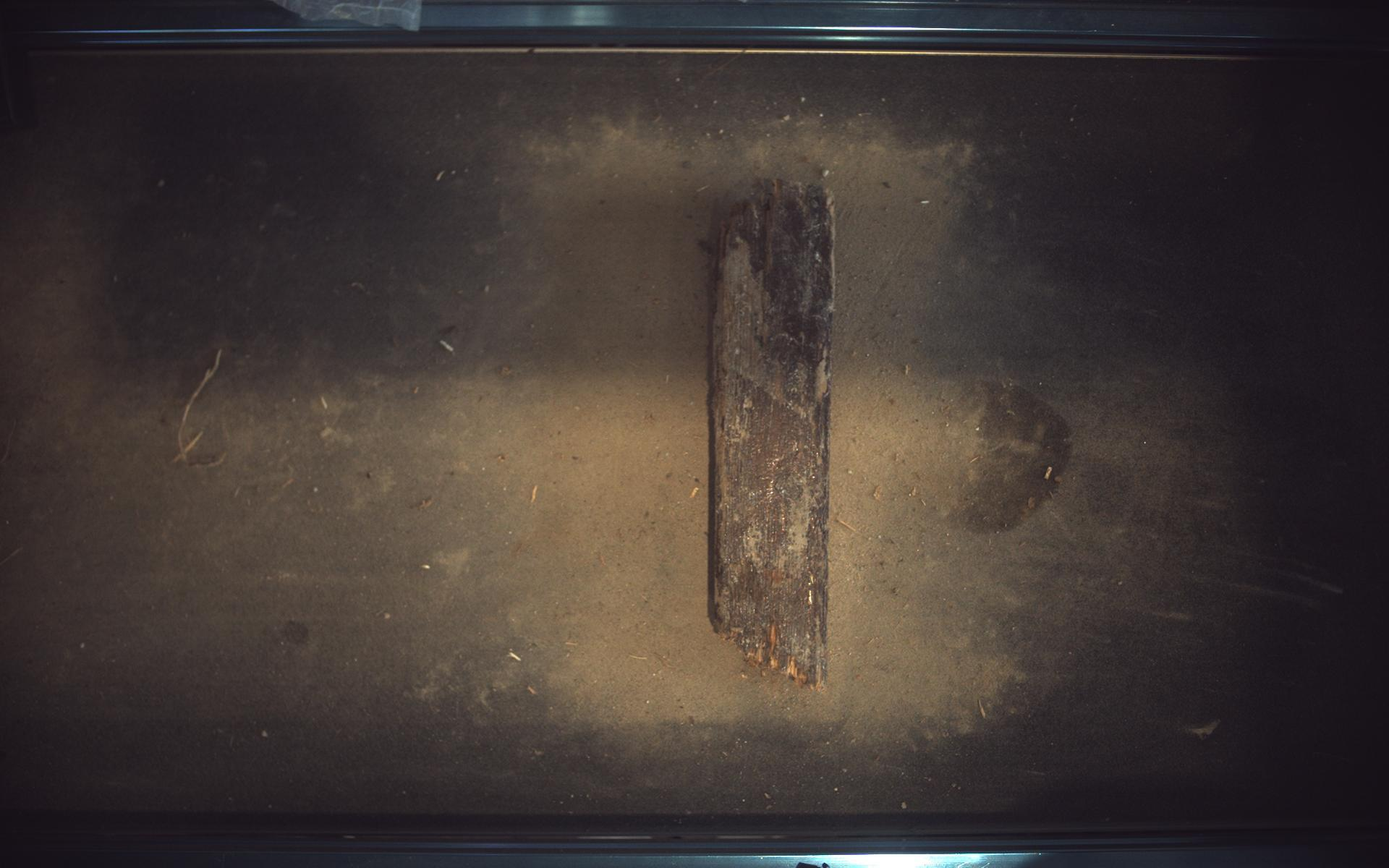wood: (711, 179, 836, 689)
